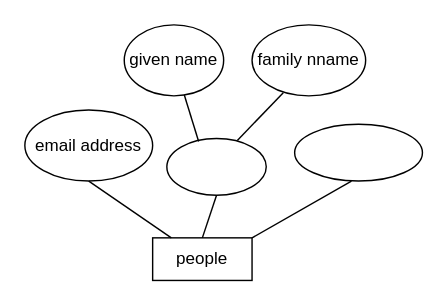
Image size: 447x305. Some labels were removed from this diagram. The centre of each missing label's shape, as x and y in pixels:
name: the point at 215,166
unique people ID: the point at 357,152
